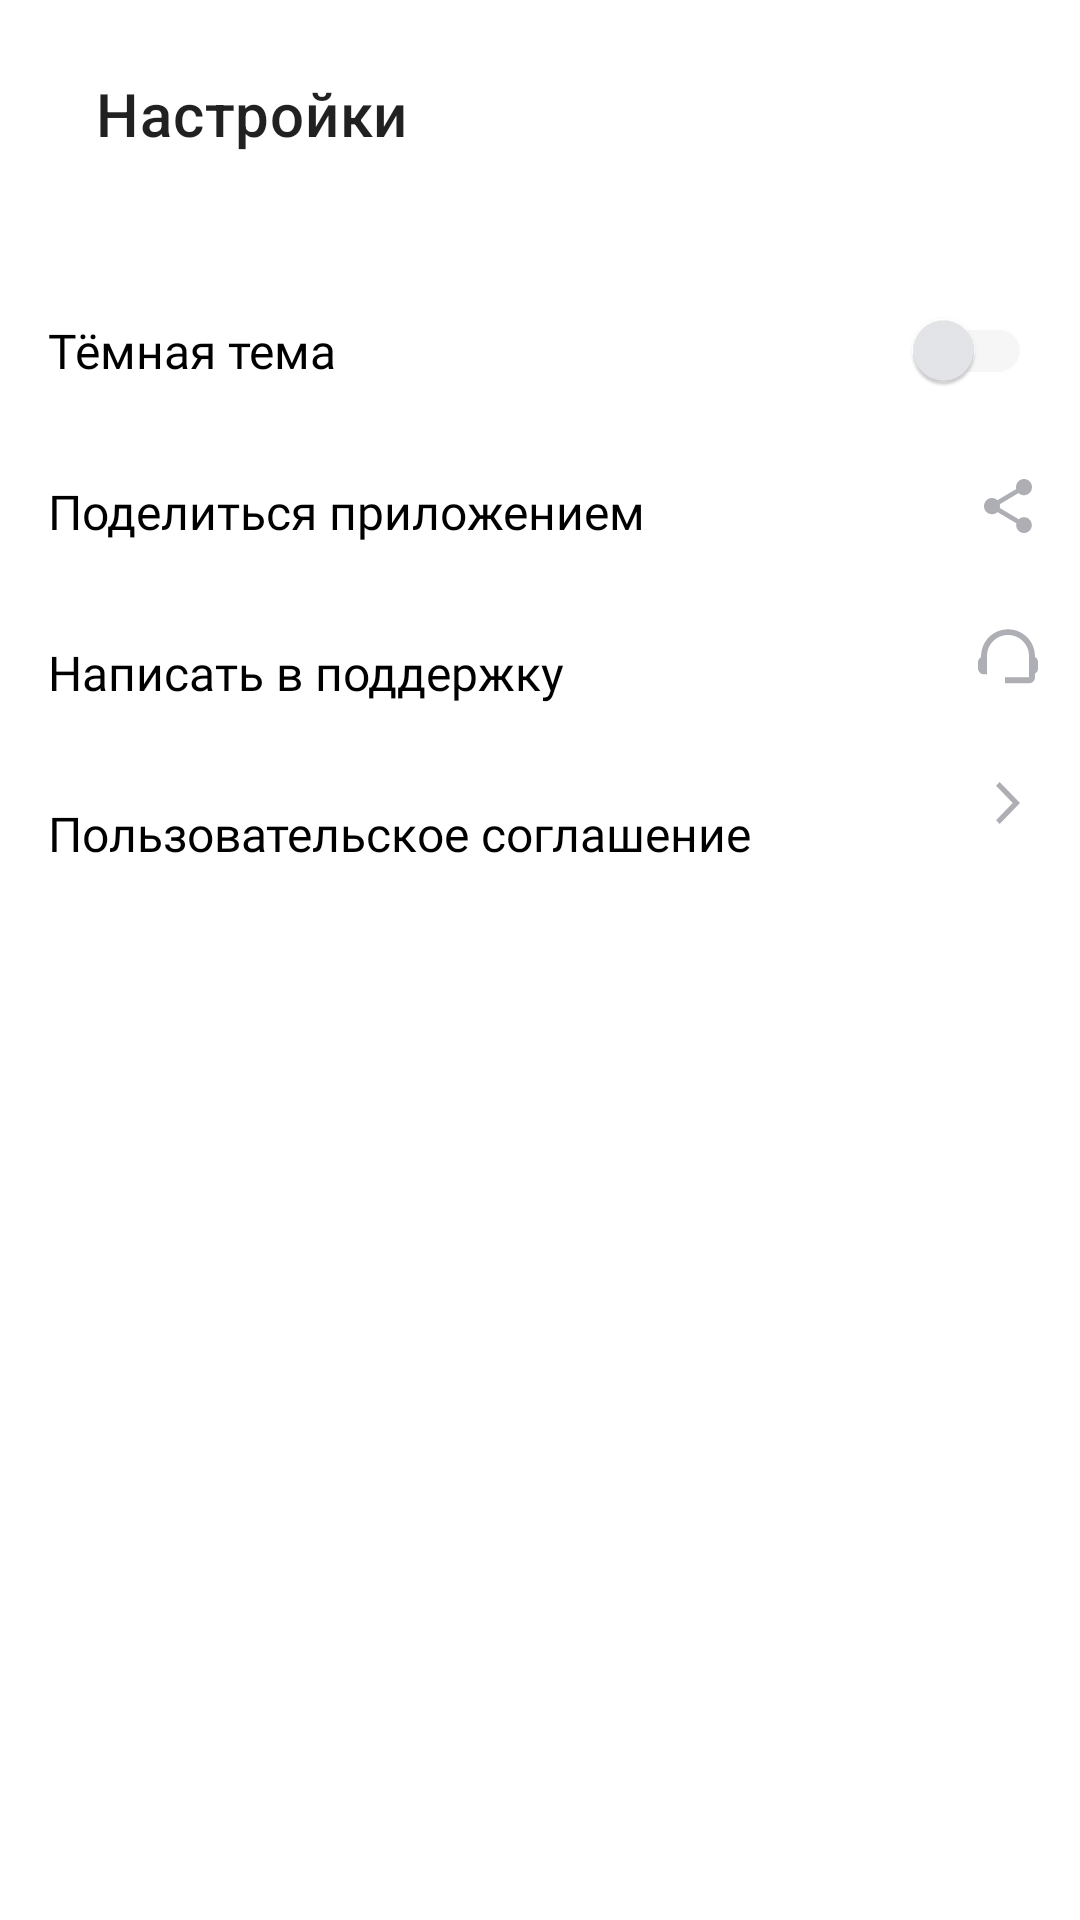

Icons on this 1080px×1920px Android screen, each with its box as (x1,y1,x2,y2):
arrow: (996,782,1020,824)
share: (984,479,1032,533)
support: (978,629,1038,683)
